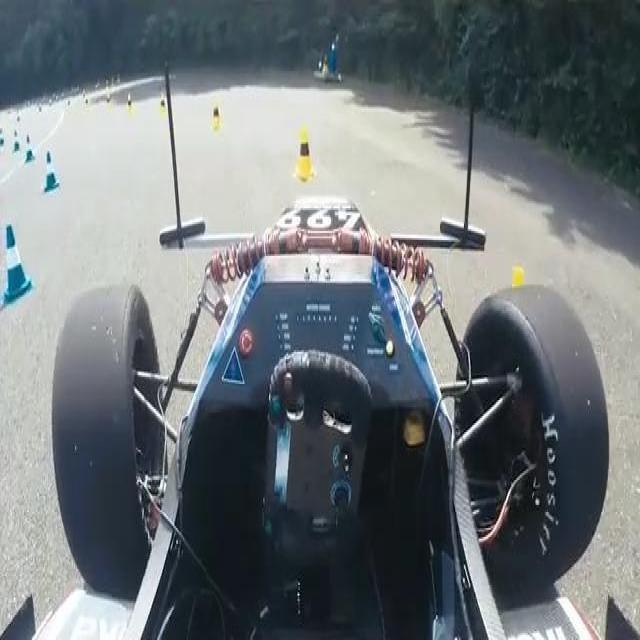blue_cone: (3, 226, 35, 306), (44, 151, 60, 193), (24, 135, 36, 164), (11, 130, 21, 154)
yellow_cone: (294, 128, 317, 183), (210, 98, 225, 131)
